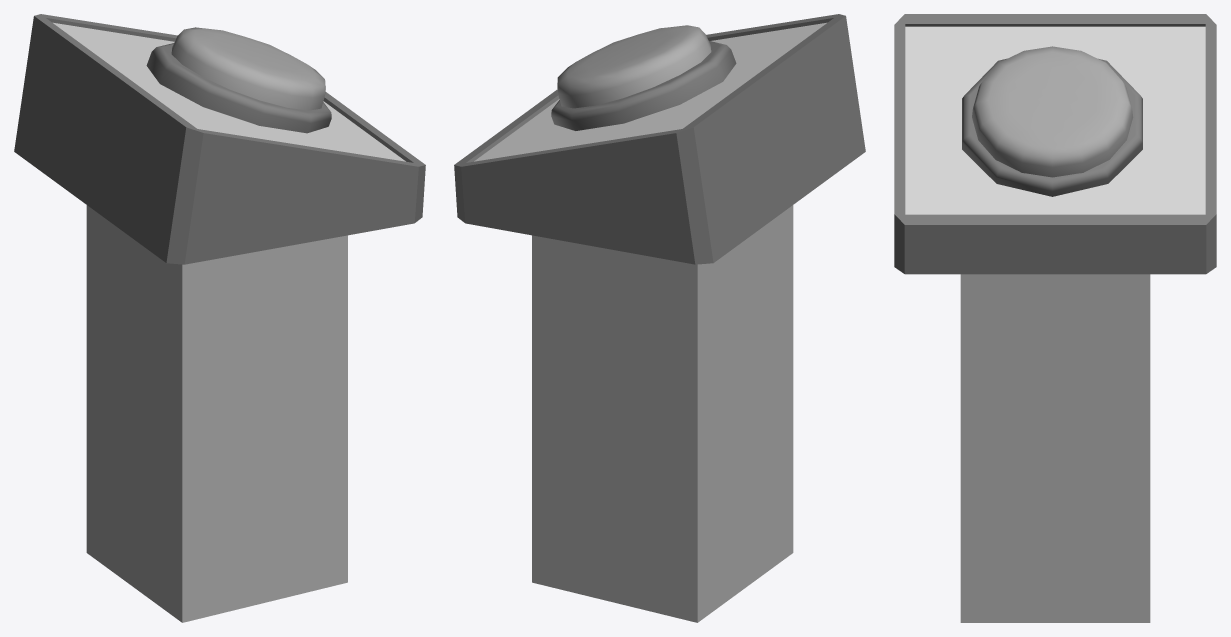
Rendered from Podium.fbx.
3 renders of one model, left to right at view 1: azimuth 30°, elevation 25°; view 2: azimuth 150°, elevation 25°; view 3: azimuth 270°, elevation 25°, orthographic.
Visible parts, largest first — view 1: pCube3, pCylinder5; view 2: pCube3, pCylinder5; view 3: pCube3, pCylinder5.
Part boxes in pixels (<box>): pCube3: <box>14,14,425,622</box>; pCylinder5: <box>171,27,325,110</box>; pCube3: <box>454,14,865,622</box>; pCylinder5: <box>557,25,711,108</box>; pCube3: <box>894,14,1216,622</box>; pCylinder5: <box>972,46,1133,177</box>.
Size of the model in its own units: 4.61 by 8.99 by 5.01.
